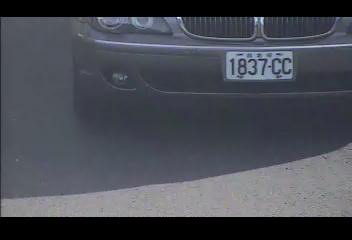plate: (224, 49, 294, 80)
